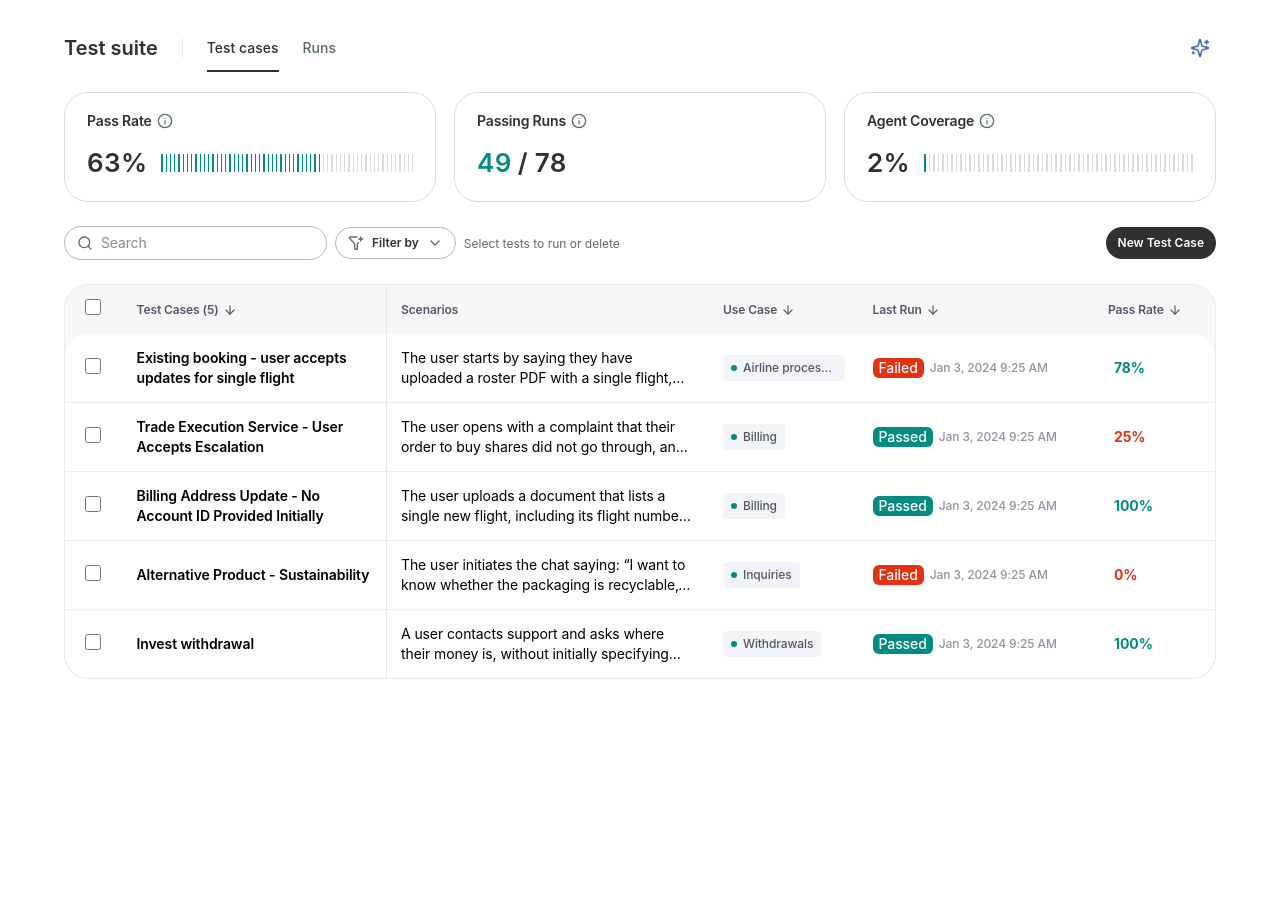
Test case: TestSuiteView › opens the create flow and requires a use case before continuing
The width and height of the screenshot is (1280, 900).
Click the button "New Test Case". click: (1161, 243)
box: [1106, 227, 1216, 259]
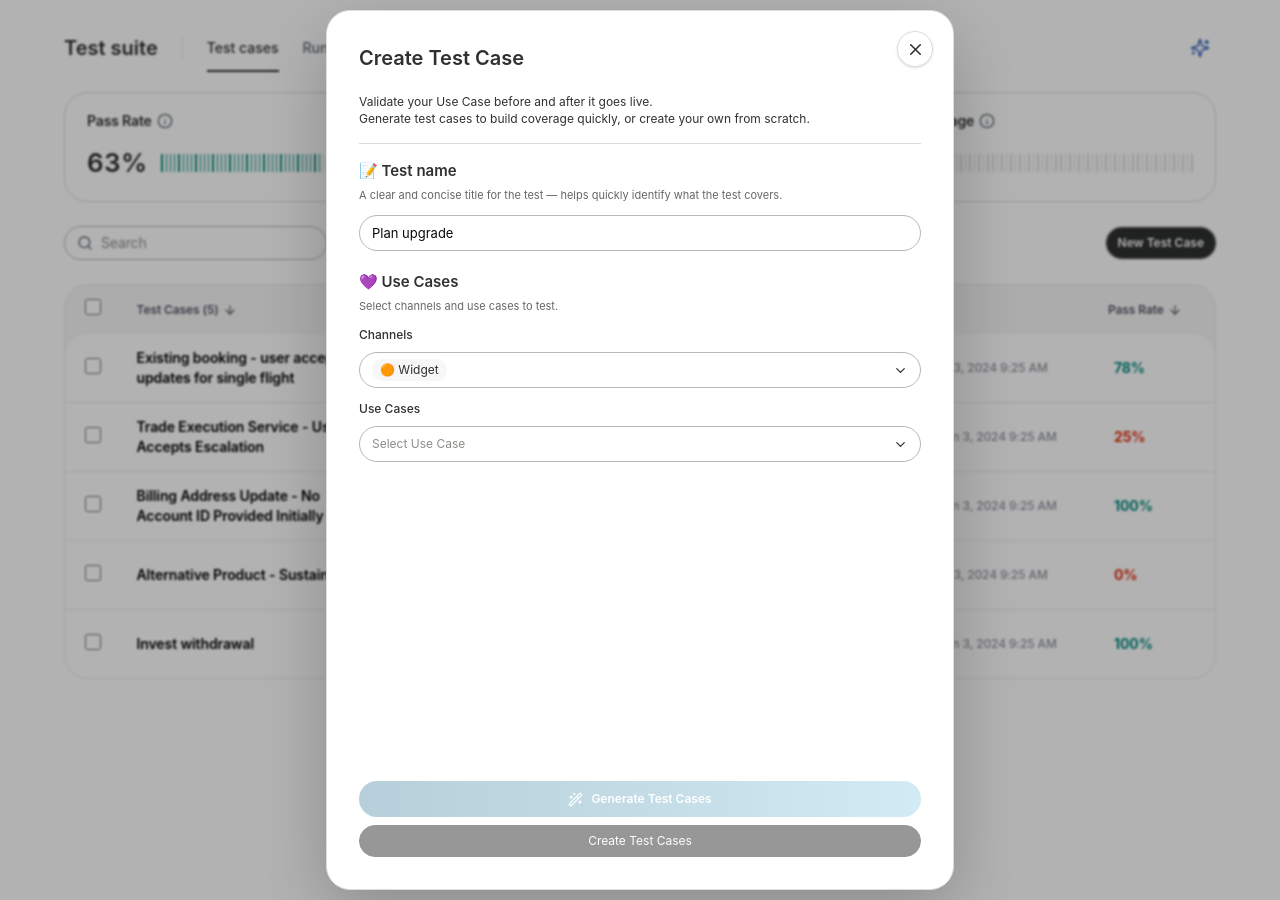
Check: the dialog "Create Test Case" is shown, box [326, 10, 954, 890]
Check: the button "Generate Test Cases" is disabled, box [359, 781, 921, 817]
Click the dropdown named "Use Cases". click: (419, 444)
box: [359, 426, 921, 462]
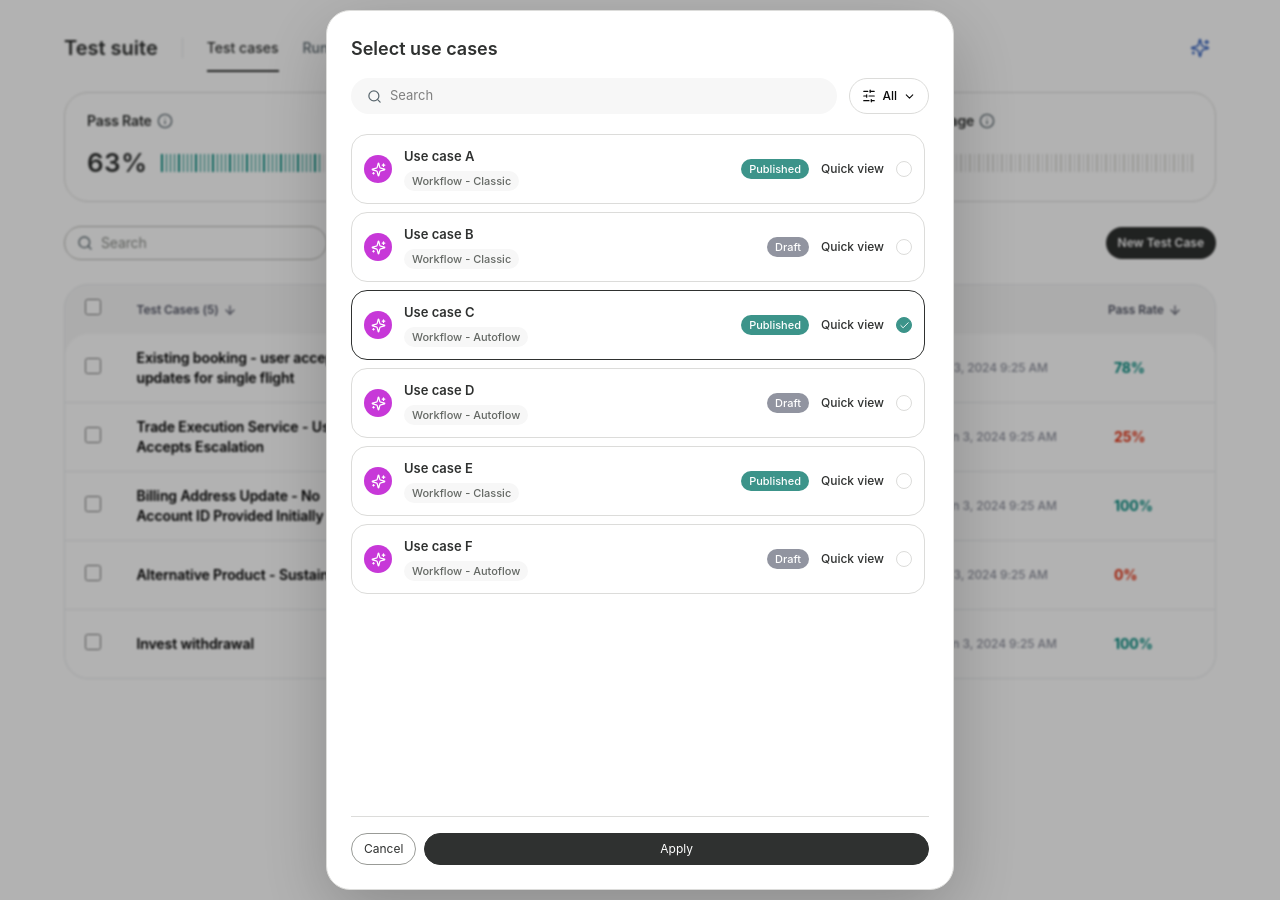
Click the button "Apply". click: (677, 849)
box: [424, 833, 929, 865]
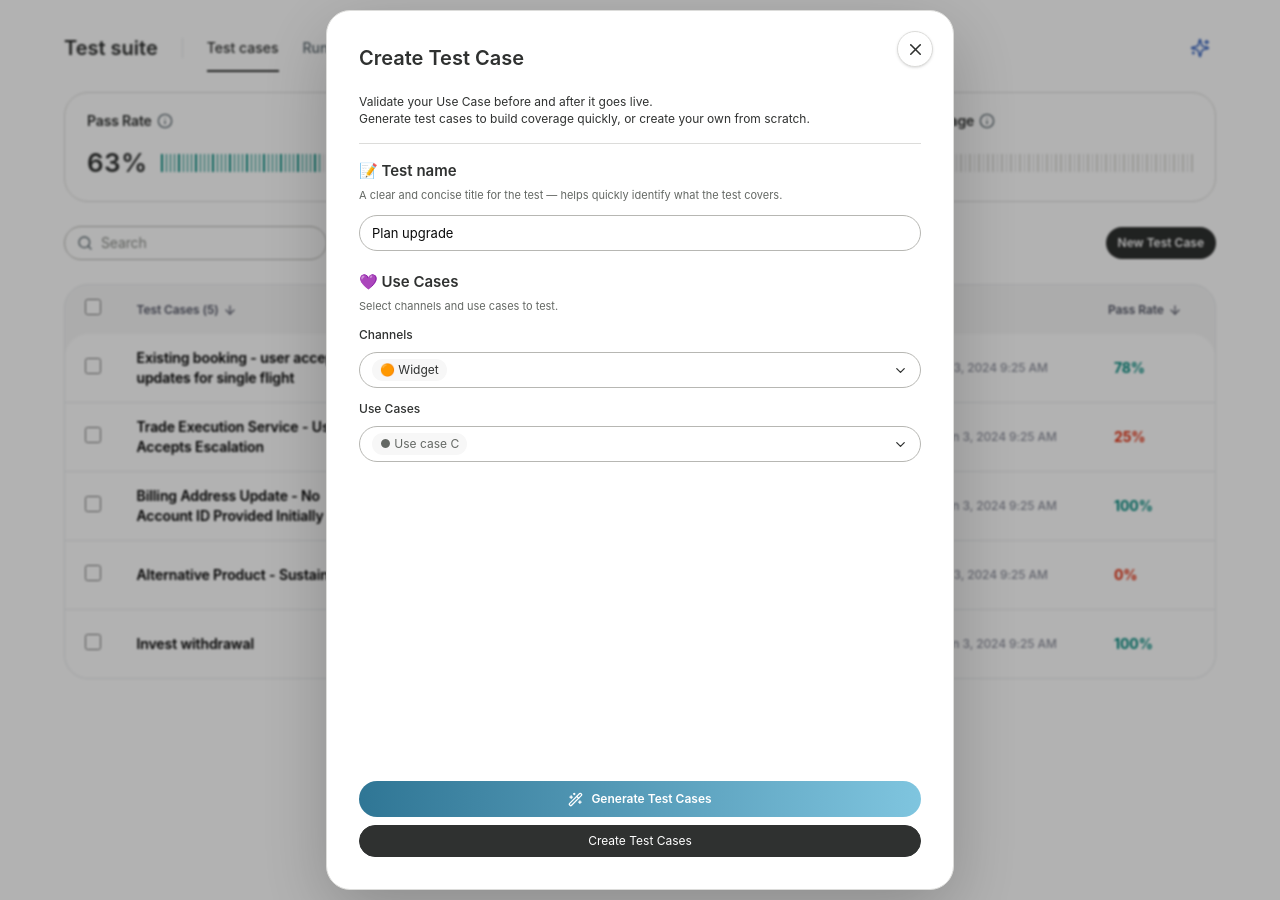
Check: the dropdown named "Use Cases" shows "Use case C", box [359, 426, 921, 462]
Check: the button "Generate Test Cases" is enabled, box [359, 781, 921, 817]
